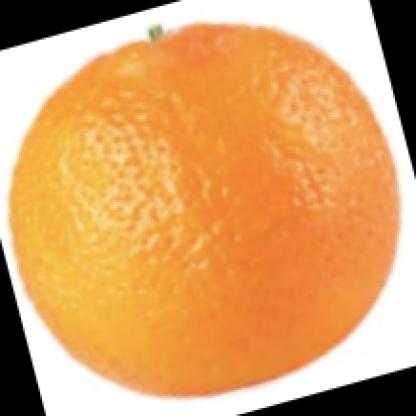orange: (7, 15, 398, 401)
